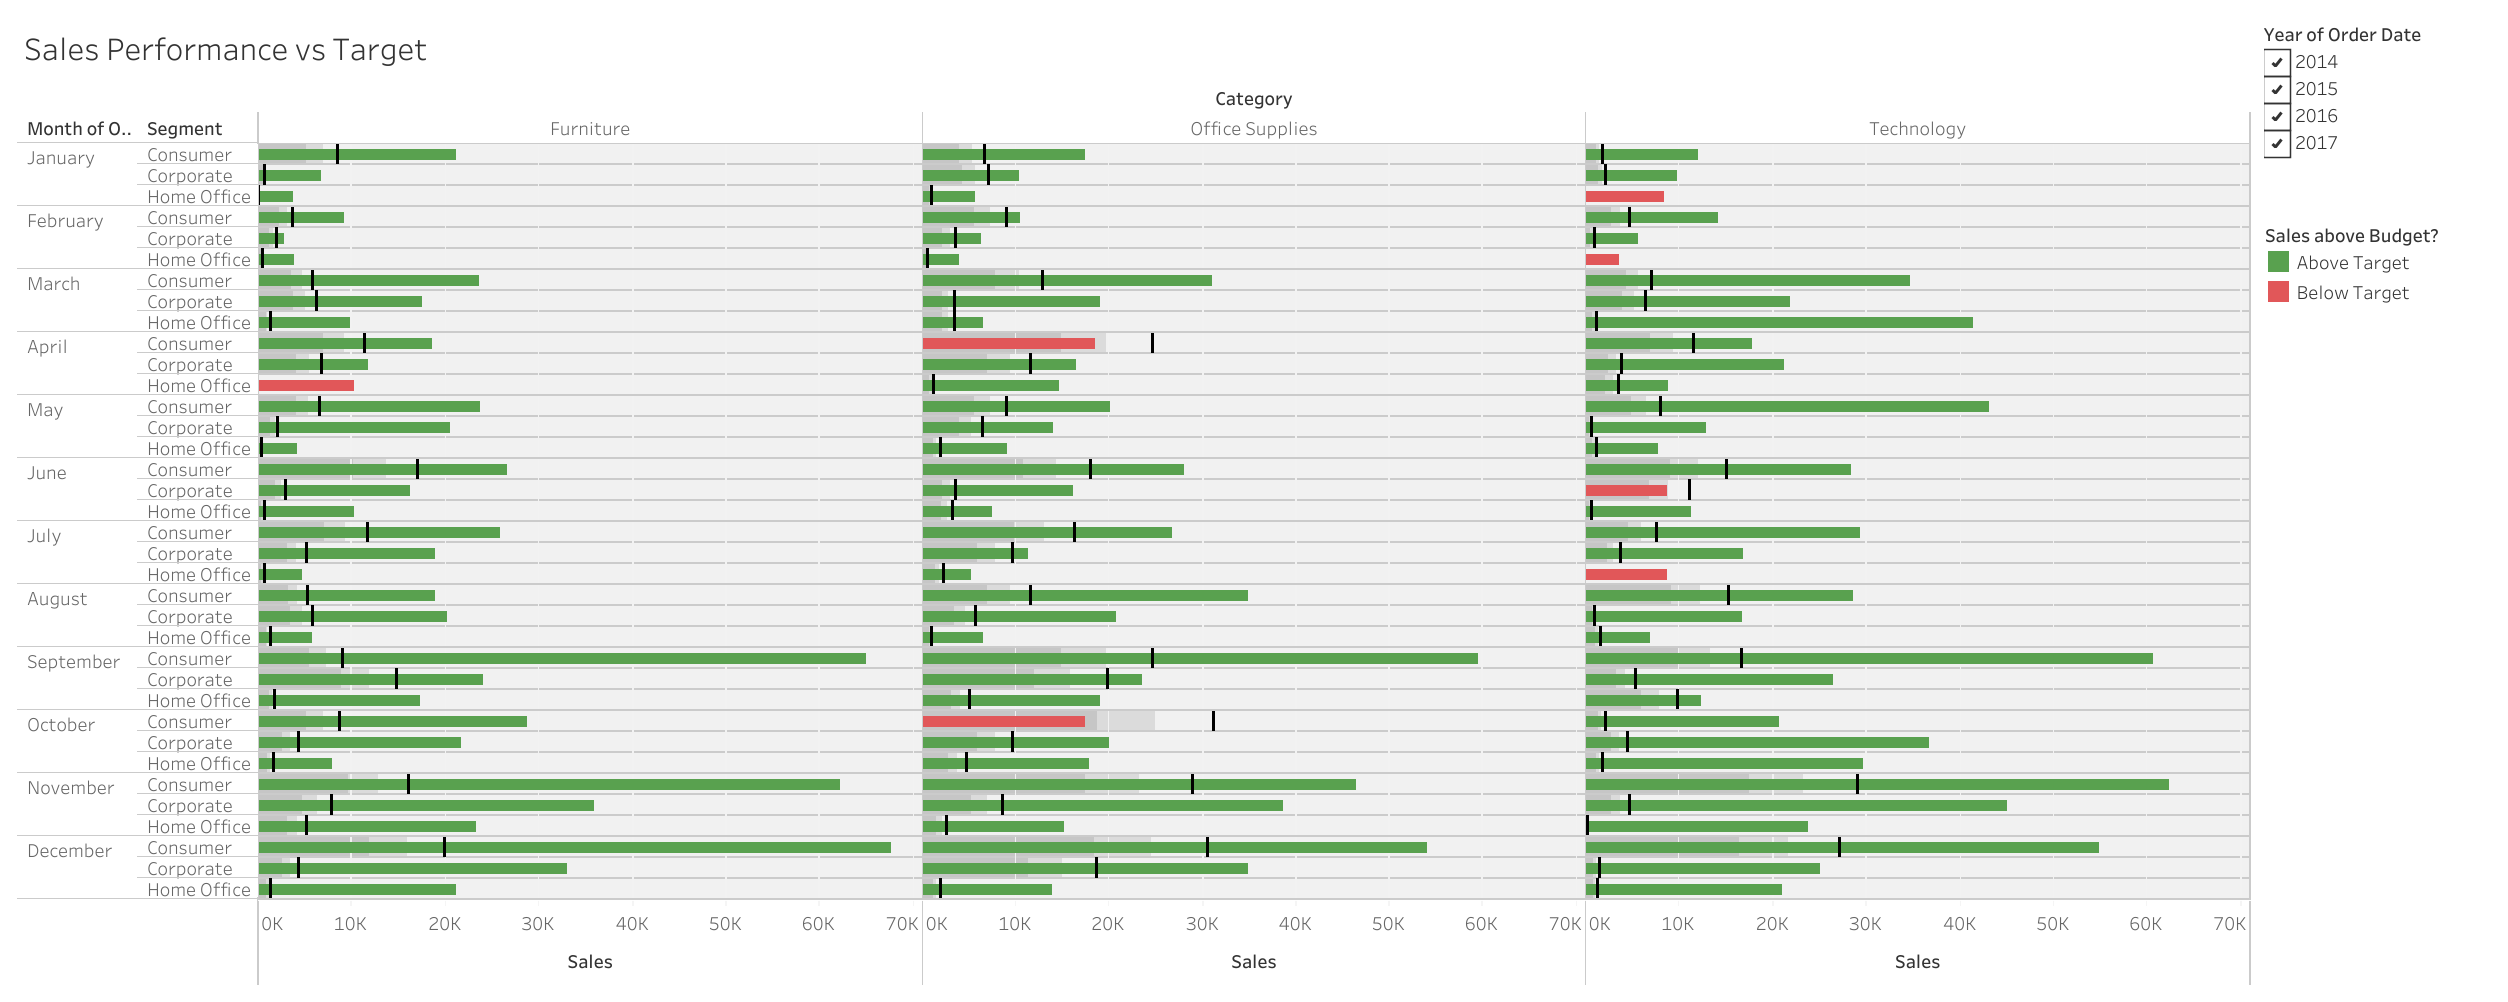

What the dashboard file says about the page in this screenshot:
{"tool":"tableau","page":{"name":"Dashboard 1","canvas":[1000,1000],"units":"permille","ordinal":0},"visuals":[{"type":"worksheet","box":[0,0,1000,1000]},{"type":"worksheet","param":"horz","box":[5,9.8,990,980.4]},{"type":"worksheet","box":[5,9.8,890.3,980.4]},{"type":"worksheet","title":"Project","mark":"Automatic","rows":["Order Date","Segment"],"cols":["Category","Sales"],"box":[5,9.8,890.3,980.4]},{"type":"worksheet","param":"vert","box":[895.3,9.8,99.8,980.4]},{"type":"worksheet","title":"Project","mark":"Automatic","rows":["Order Date","Segment"],"cols":["Category","Sales"],"param":"[federated.1bbu6an1384lar176r1ks02myr90].[yr:Order Date:ok]","box":[895.3,9.8,99.8,213.9]},{"type":"worksheet","title":"Project","mark":"Automatic","rows":["Order Date","Segment"],"cols":["Category","Sales"],"param":"[federated.1bbu6an1384lar176r1ks02myr90].[usr:Calculation_3284531564226691074:nk","box":[895.3,223.7,99.8,102.7]}]}

Visuals, with their boxes on the dashboard's canvas, which has no fixed pixel size, in thousandths of its width and height (x1, y1, x2, y2). These are canvas units, not pixel positions in the 2508x1002 screenshot, which may show the page scaled, cropped or inside an application window:
worksheet: left=0, top=0, right=1000, bottom=1000
worksheet: left=5, top=10, right=995, bottom=990
worksheet: left=5, top=10, right=895, bottom=990
"Project" worksheet: left=5, top=10, right=895, bottom=990
worksheet: left=895, top=10, right=995, bottom=990
"Project" worksheet: left=895, top=10, right=995, bottom=224
"Project" worksheet: left=895, top=224, right=995, bottom=326
